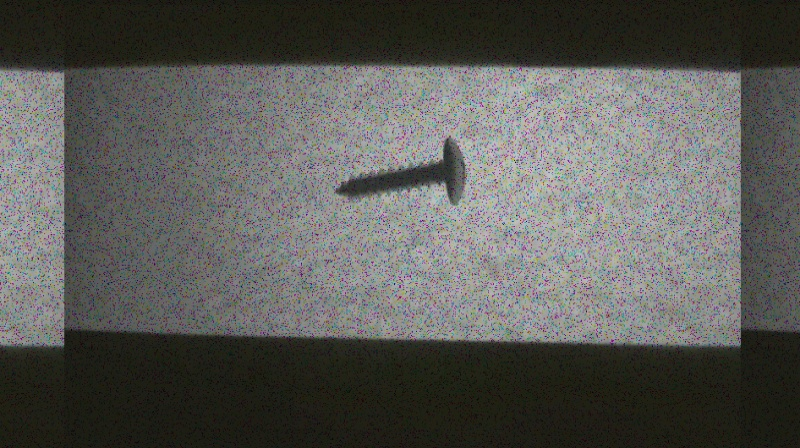S003: (333, 134, 469, 205)
